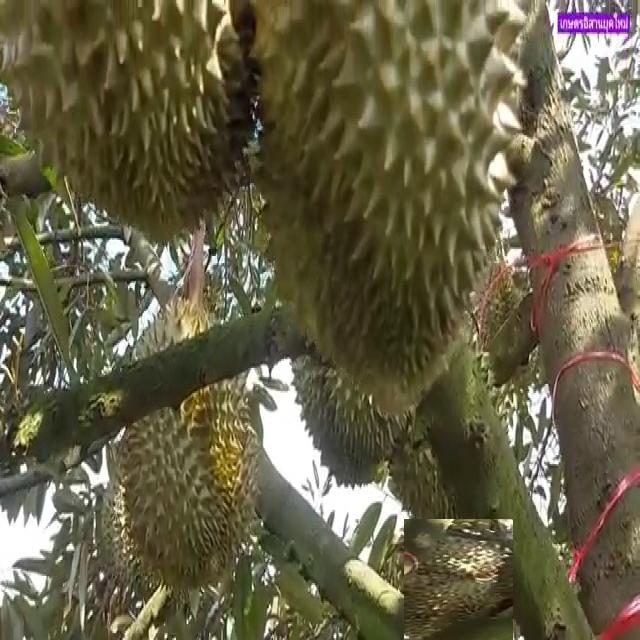durian: (245, 0, 531, 416), (0, 0, 262, 253), (106, 294, 264, 591), (398, 523, 517, 640)
